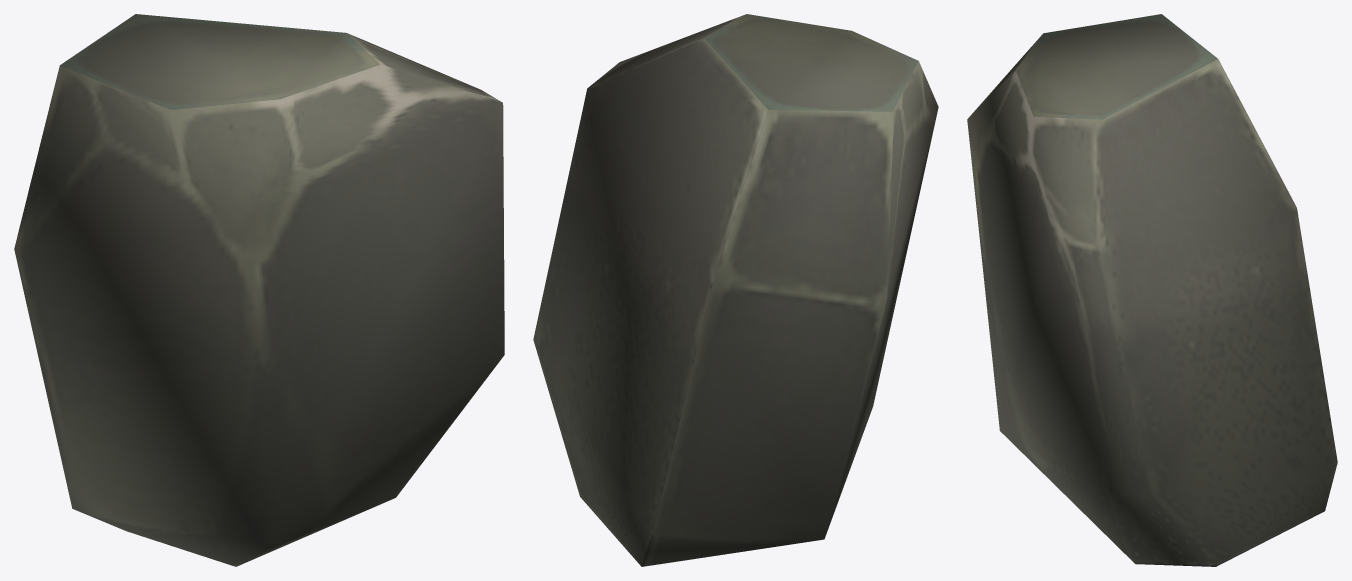
Rendered from yw_shanlin_stones_012.FBX.
3 renders of one model, left to right at view 1: azimuth 30°, elevation 25°; view 2: azimuth 150°, elevation 25°; view 3: azimuth 270°, elevation 25°, orthographic. The views are drawn at different scales.
Visible parts, largest first — view 1: yw_shanlin_stones_012; view 2: yw_shanlin_stones_012; view 3: yw_shanlin_stones_012.
Boxes of the visible parts, x1,y1,x2,y2 form: yw_shanlin_stones_012: (14,14,504,566); yw_shanlin_stones_012: (533,14,938,566); yw_shanlin_stones_012: (967,14,1337,566).
Bounding box in the file's own units: 31.33 × 27.36 × 34.13.
